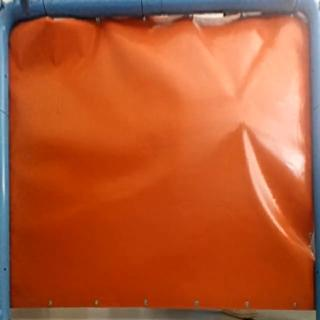Hit-hRxx: (236, 117, 251, 130)
